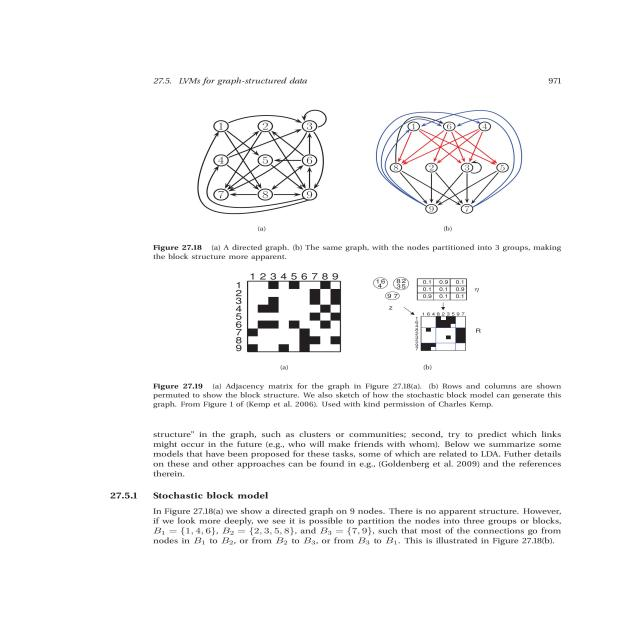diagram: (119, 100, 580, 266), (116, 265, 576, 416)
